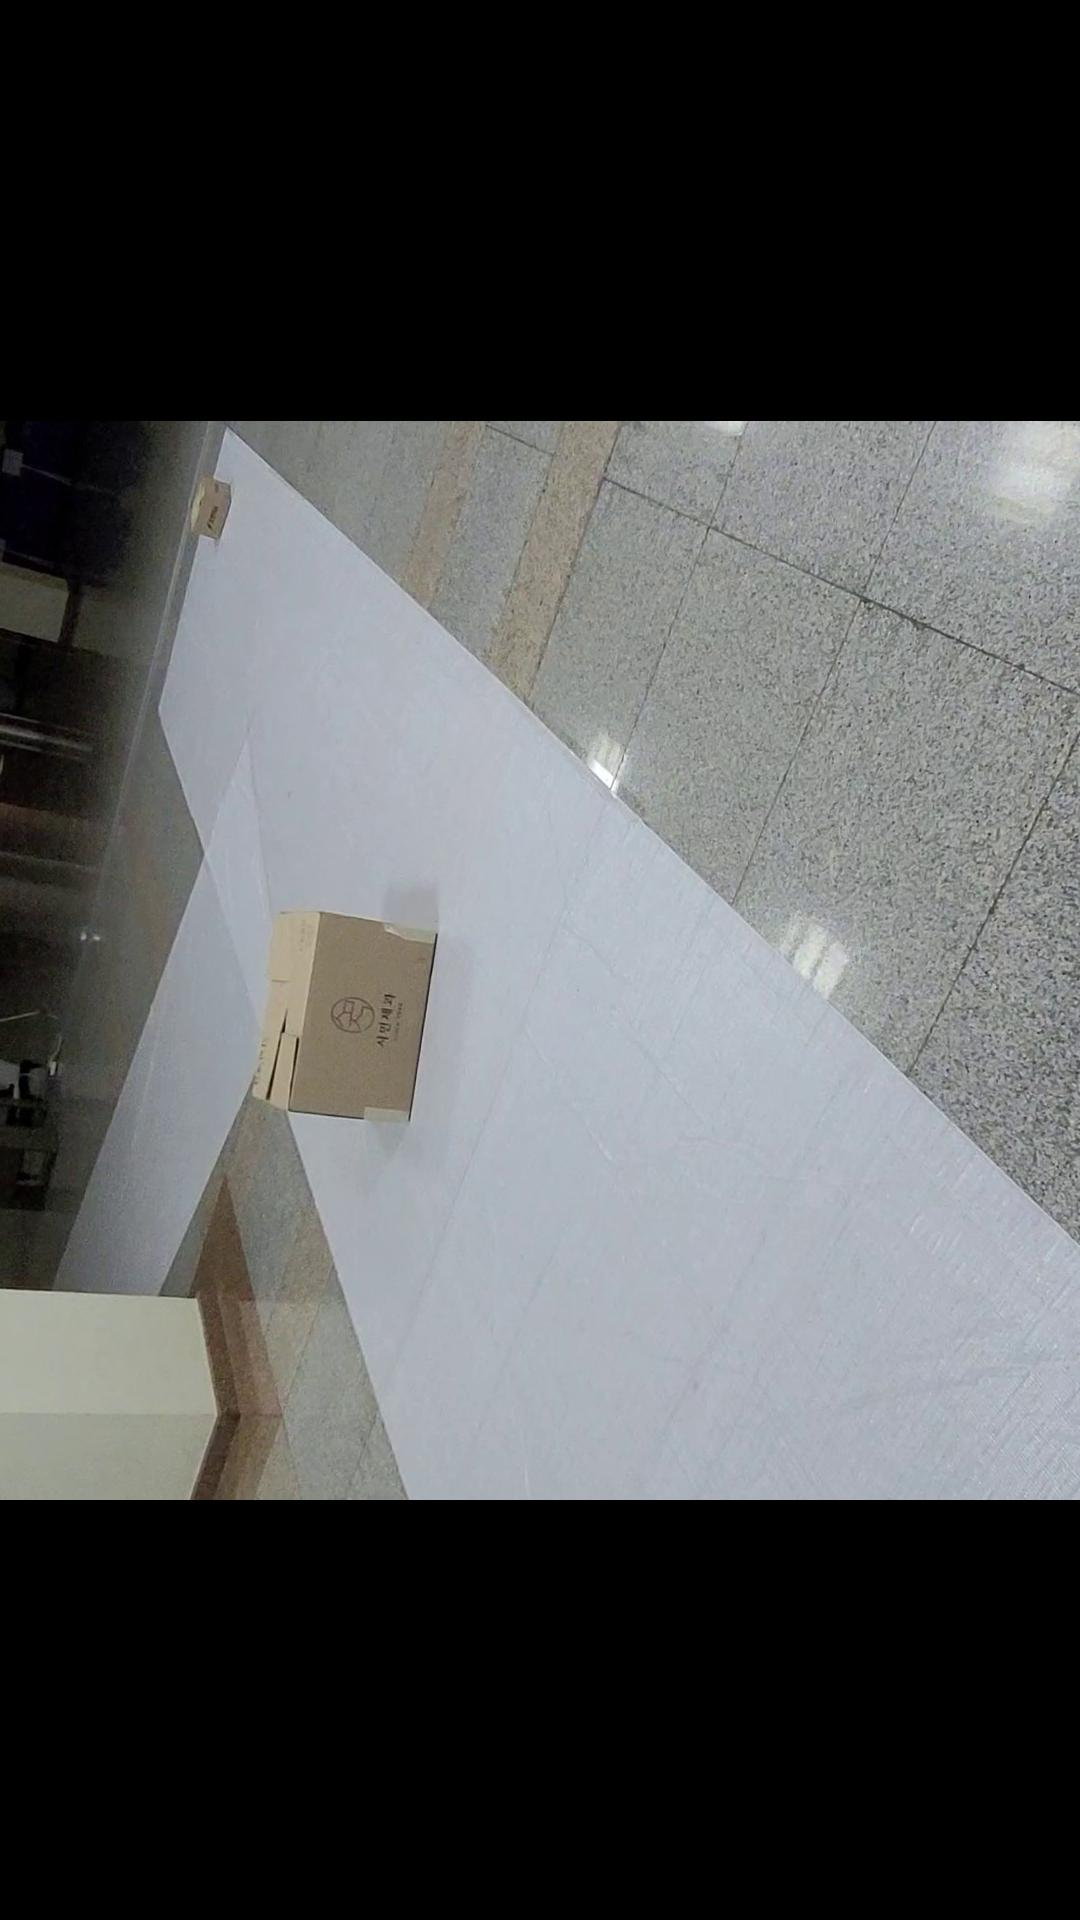Box: (223, 885, 448, 1145), (153, 465, 253, 568)
